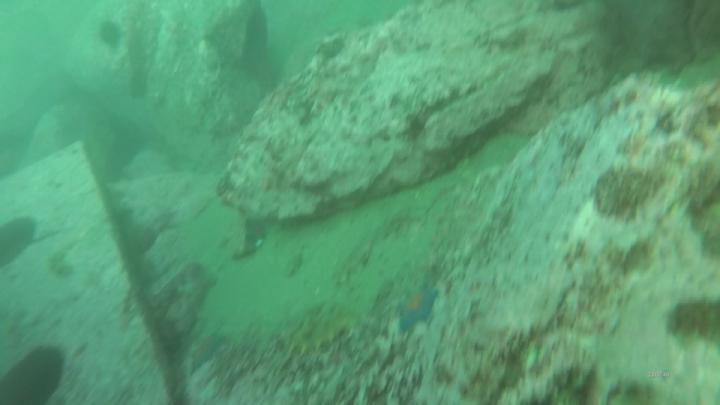echinus: (99, 23, 121, 48)
holothurian: (283, 314, 362, 361)
starfish: (392, 282, 441, 333), (186, 335, 227, 376)
